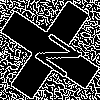N: (25, 25, 83, 81)
